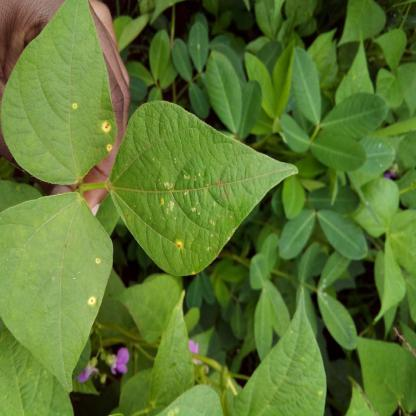Beans_Rust: (100, 102, 298, 278), (3, 193, 111, 389), (0, 0, 115, 181)
